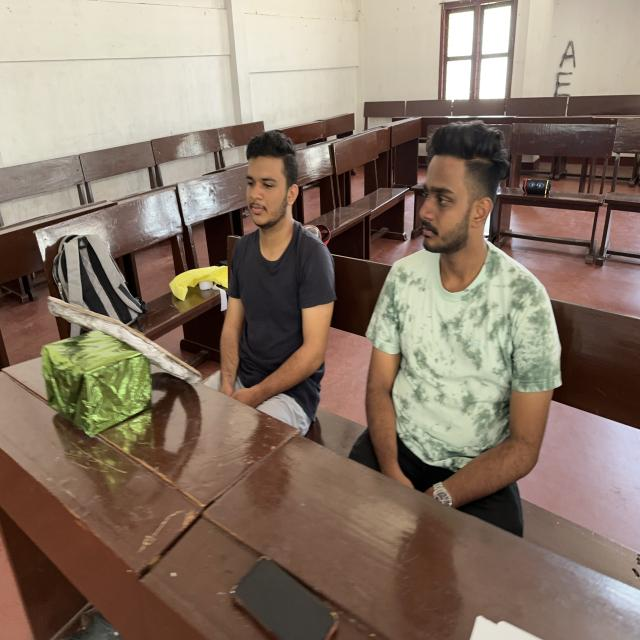Helmet: (377, 251, 548, 511), (225, 223, 335, 429)
